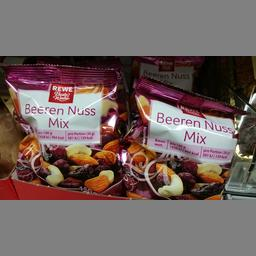nuts: (0, 62, 123, 196), (122, 76, 238, 198)
